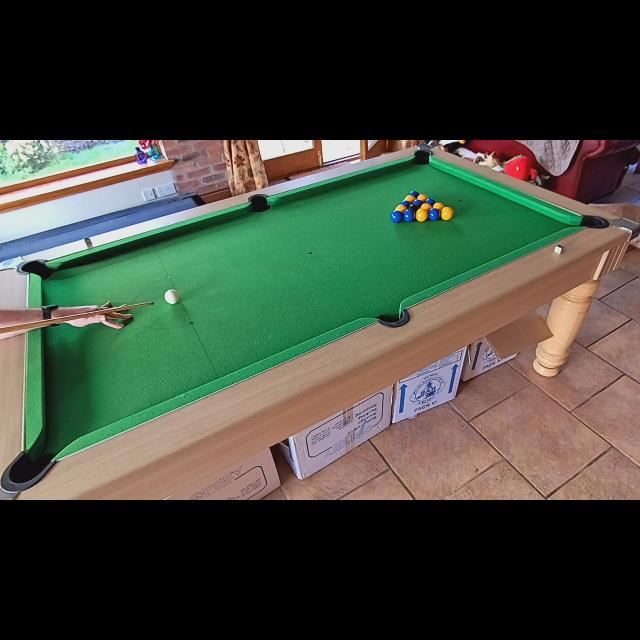Ball: (164, 290, 178, 304), (416, 208, 428, 222), (391, 210, 403, 223), (428, 208, 440, 220), (441, 208, 453, 220), (432, 202, 443, 214), (421, 203, 432, 214), (404, 210, 414, 222), (404, 195, 416, 205), (395, 205, 407, 215), (408, 204, 418, 216), (425, 198, 435, 208), (409, 190, 419, 200), (417, 194, 427, 203), (413, 200, 423, 208), (402, 200, 411, 208)
